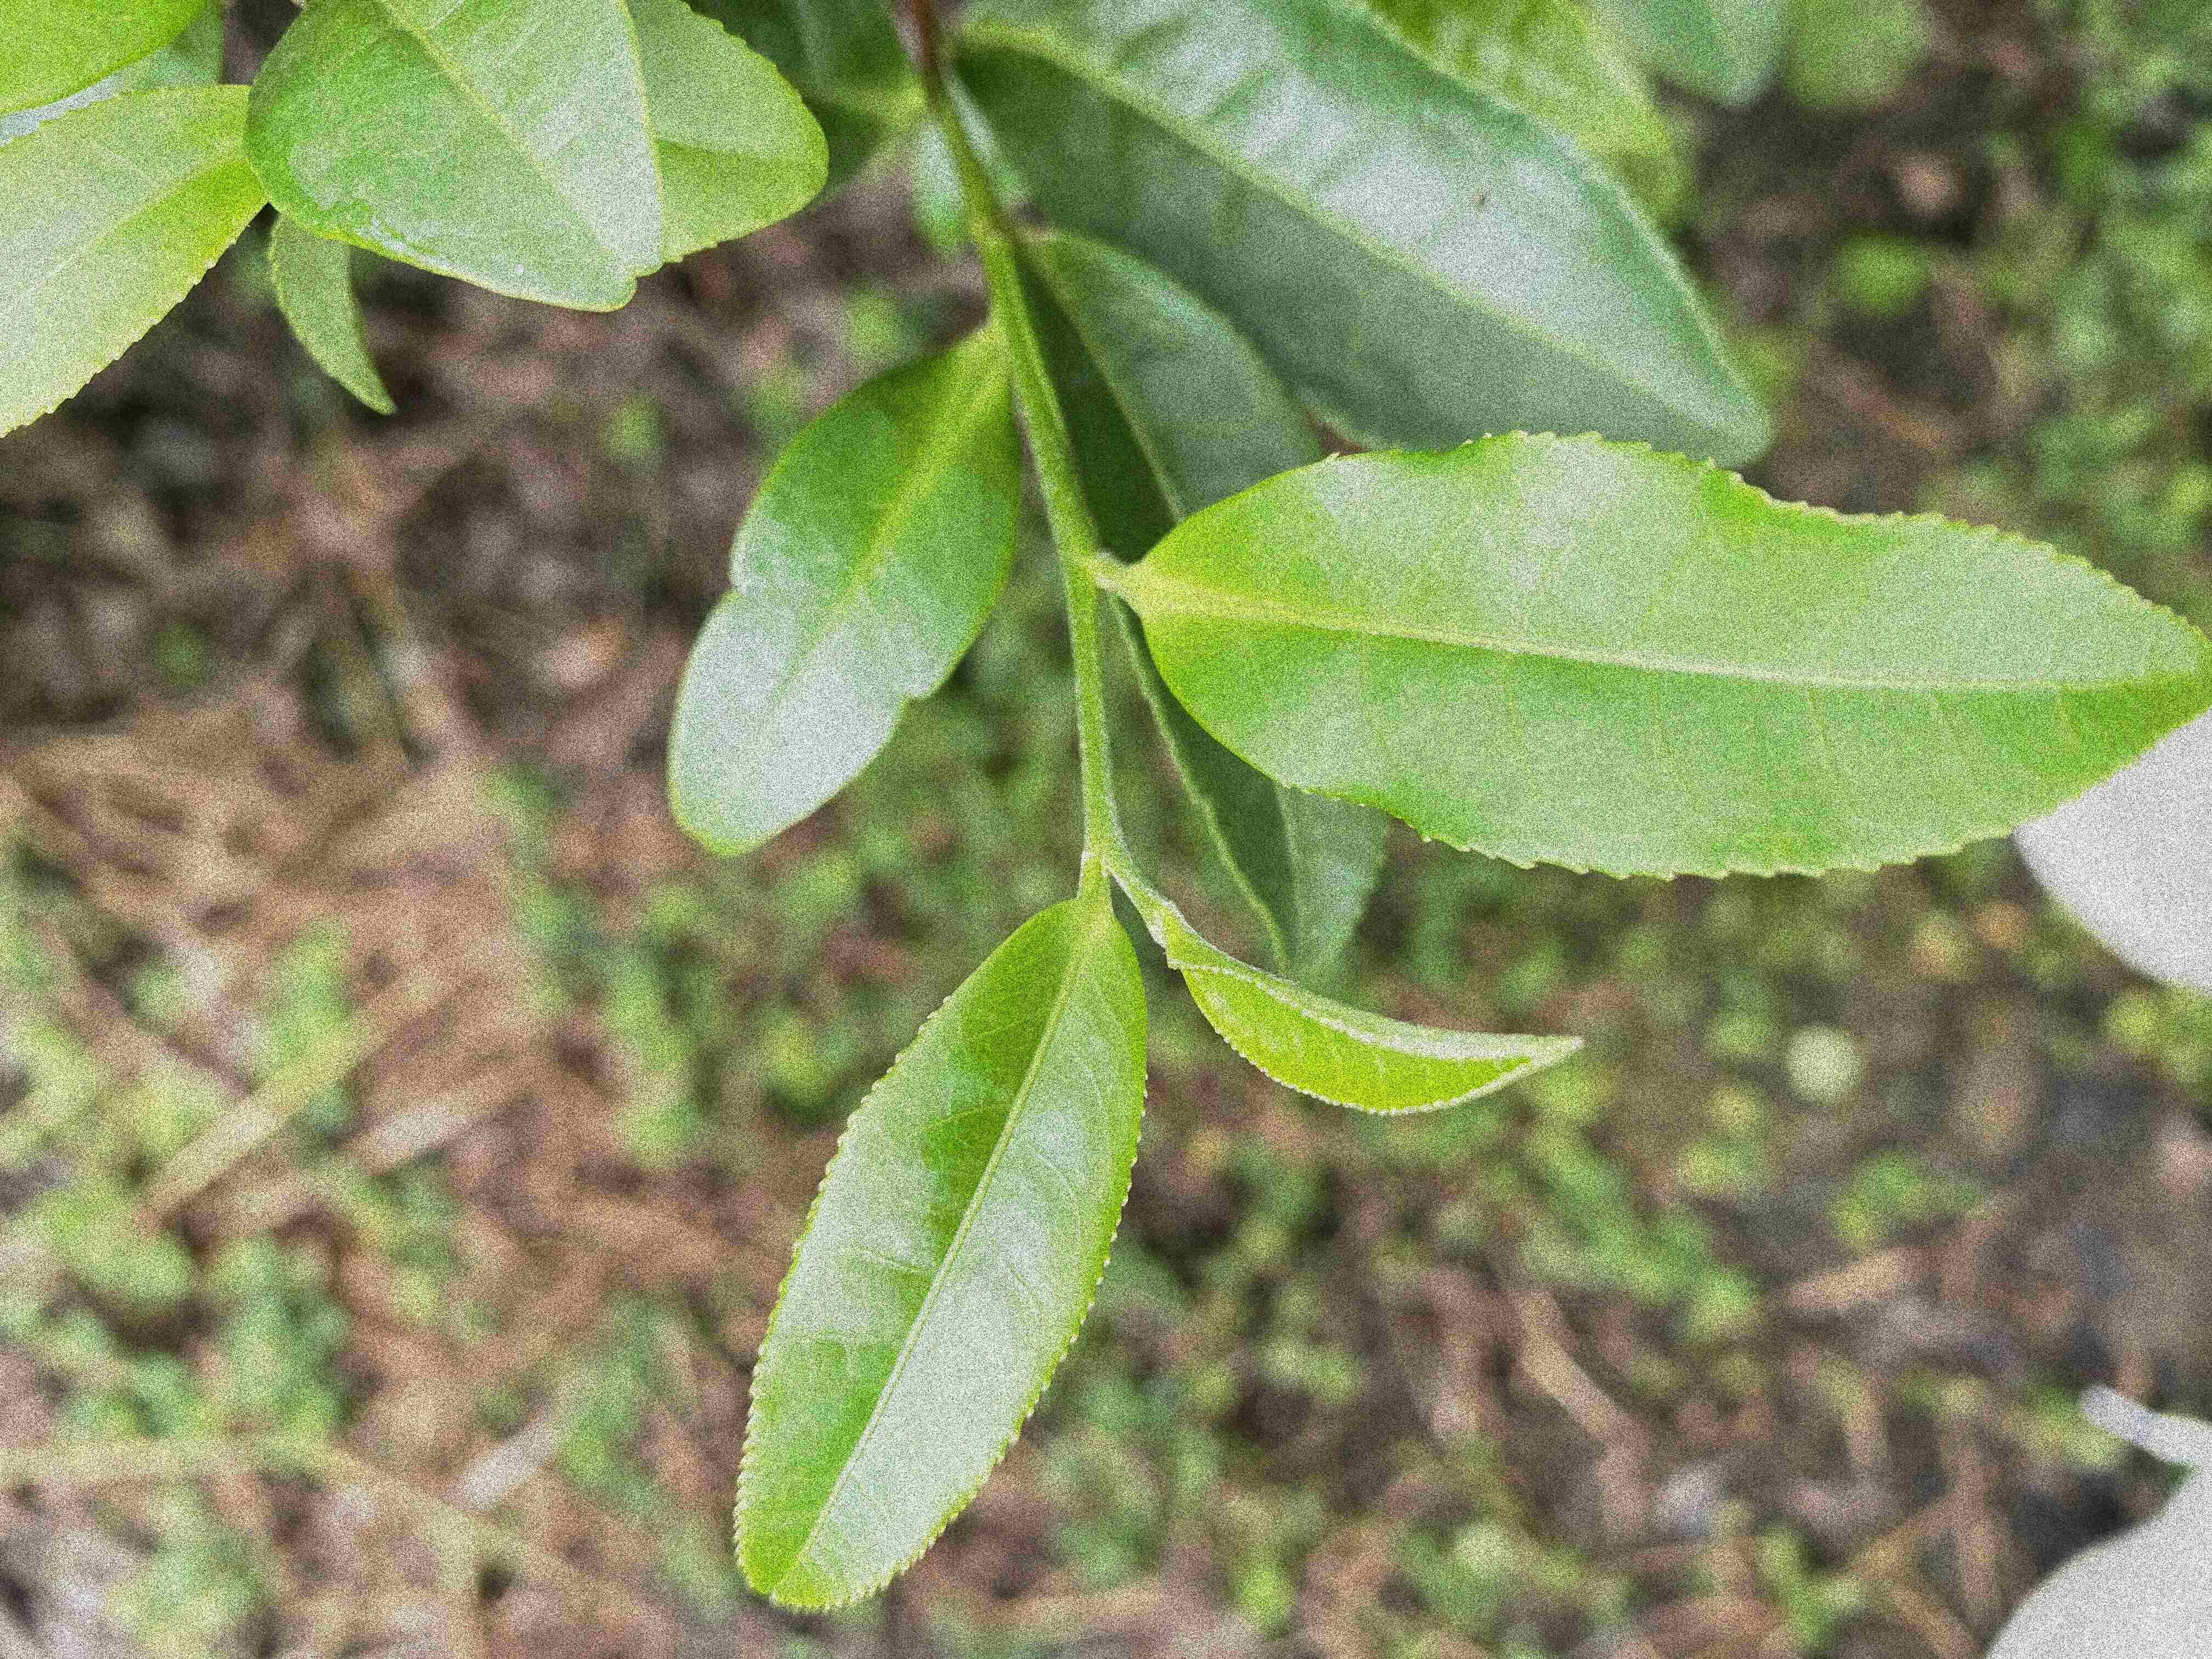healthy: (1130, 427, 2210, 884), (726, 899, 1151, 1610), (664, 345, 1019, 859), (246, 3, 672, 312), (1163, 913, 1587, 1119)
